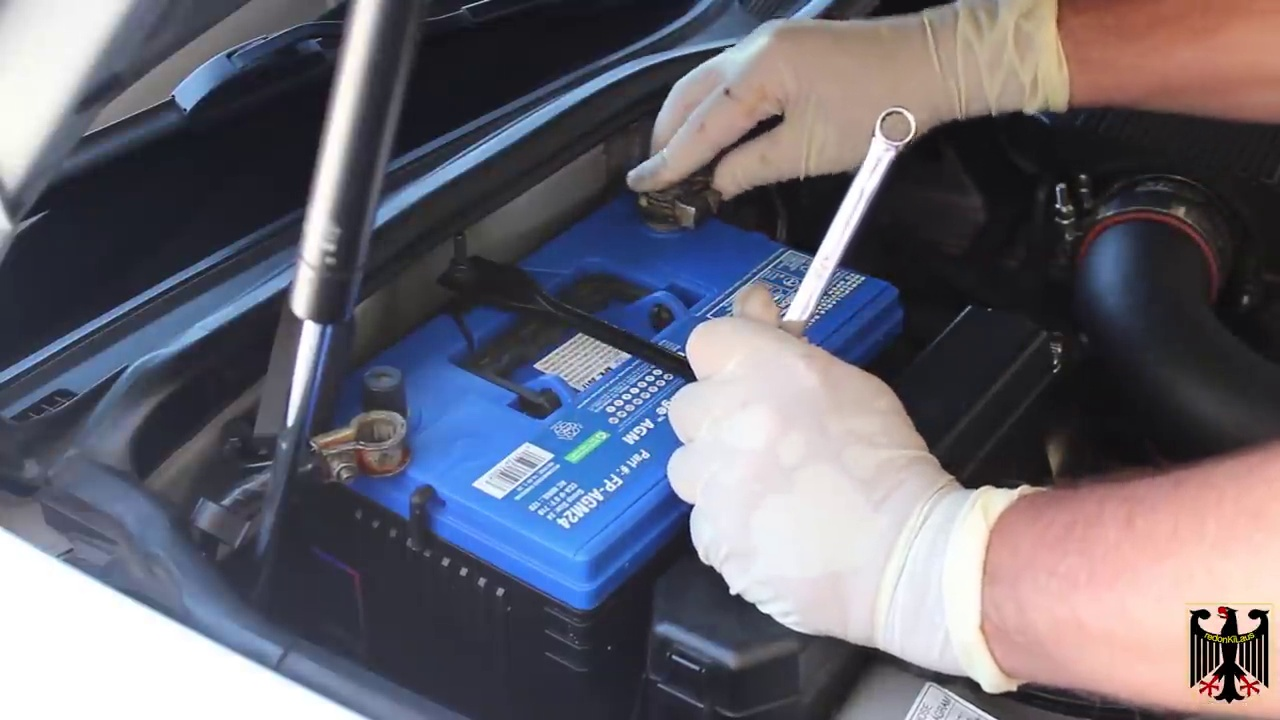battery: (298, 180, 901, 569)
